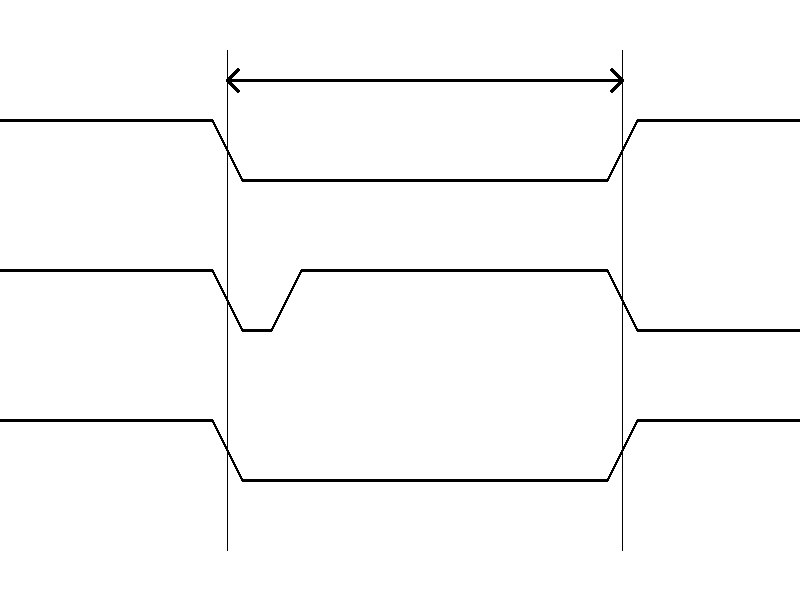double_arrow: (227, 65, 622, 95)
